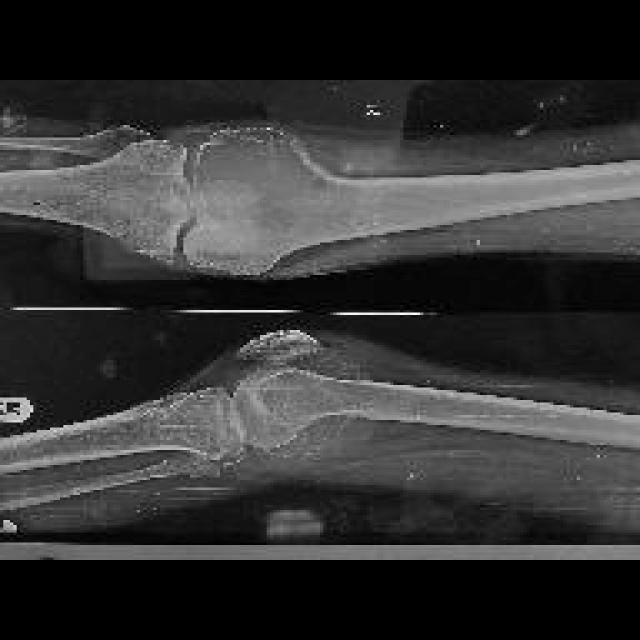bone-cancer: (193, 121, 324, 195)
